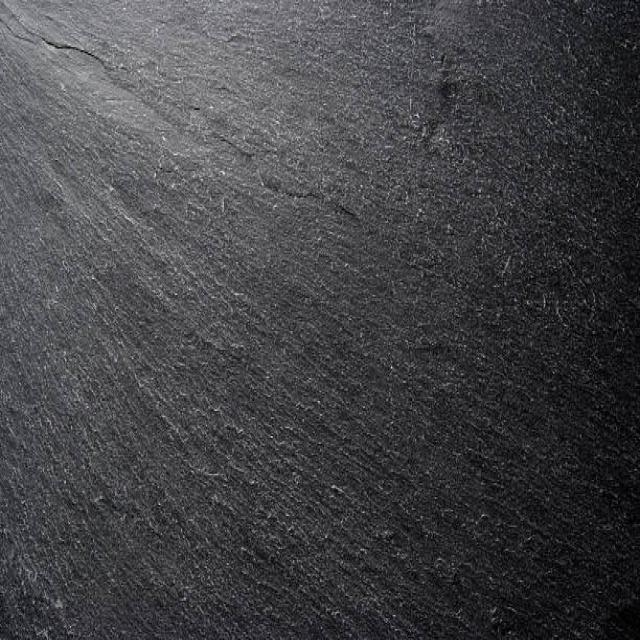Sedimentary: (2, 3, 638, 637)
